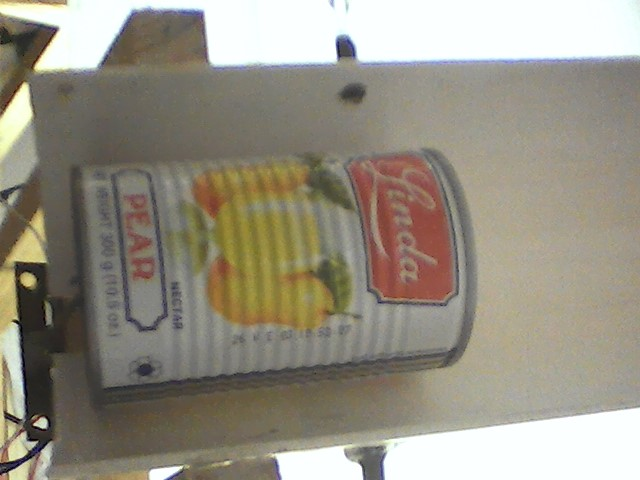lata: (59, 145, 491, 413)
